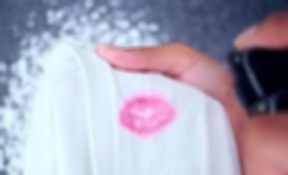lipstick: (121, 92, 179, 139)
